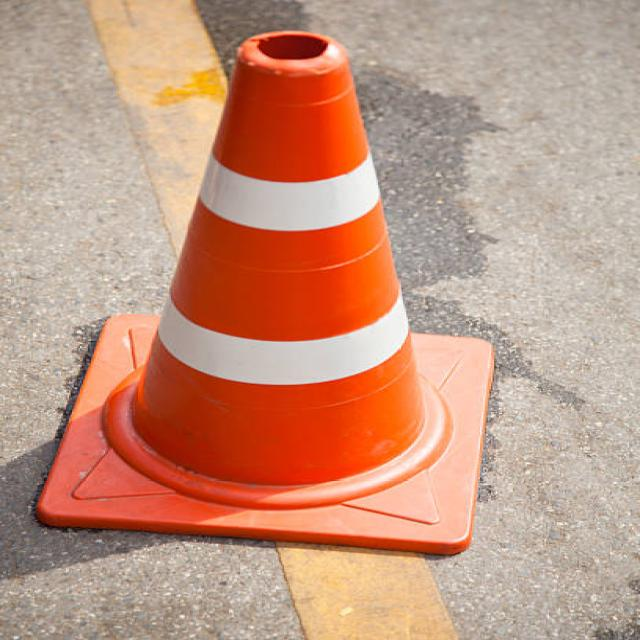Traffic Cone: (0, 0, 543, 571)
